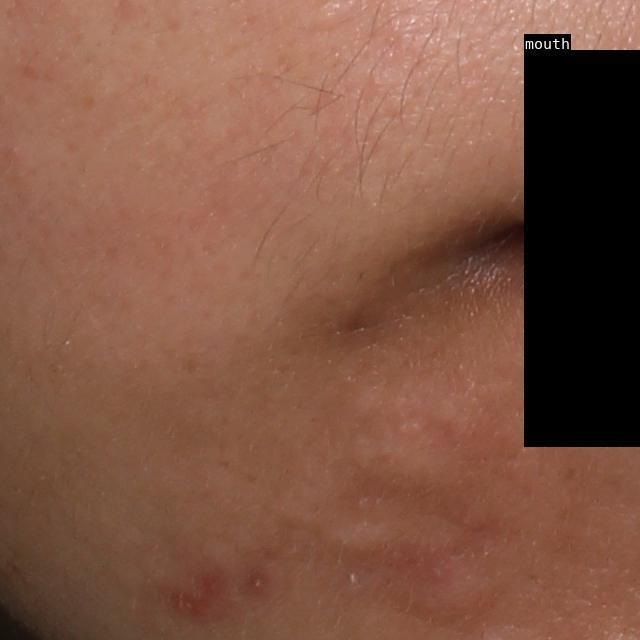hypertrophic_scar: (346, 428, 470, 498), (317, 519, 460, 562)
